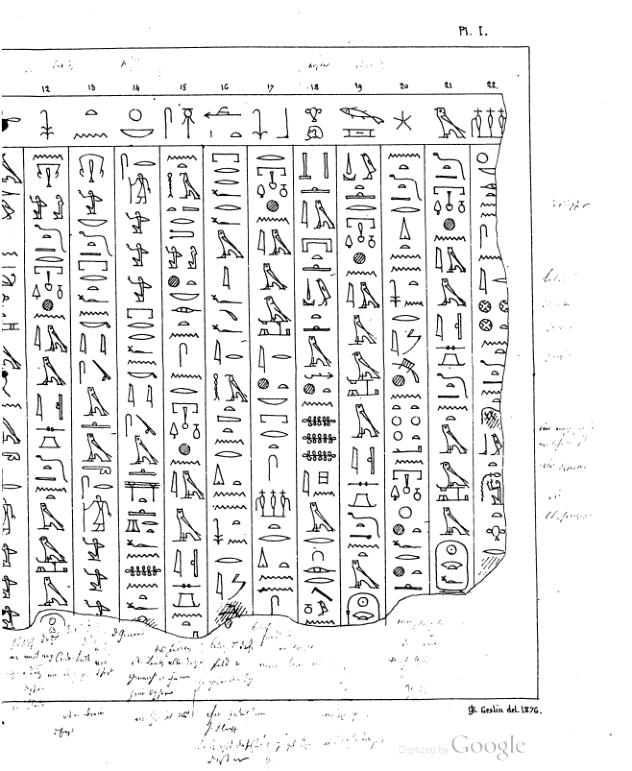circle: (434, 538, 470, 595), (346, 590, 382, 628)
